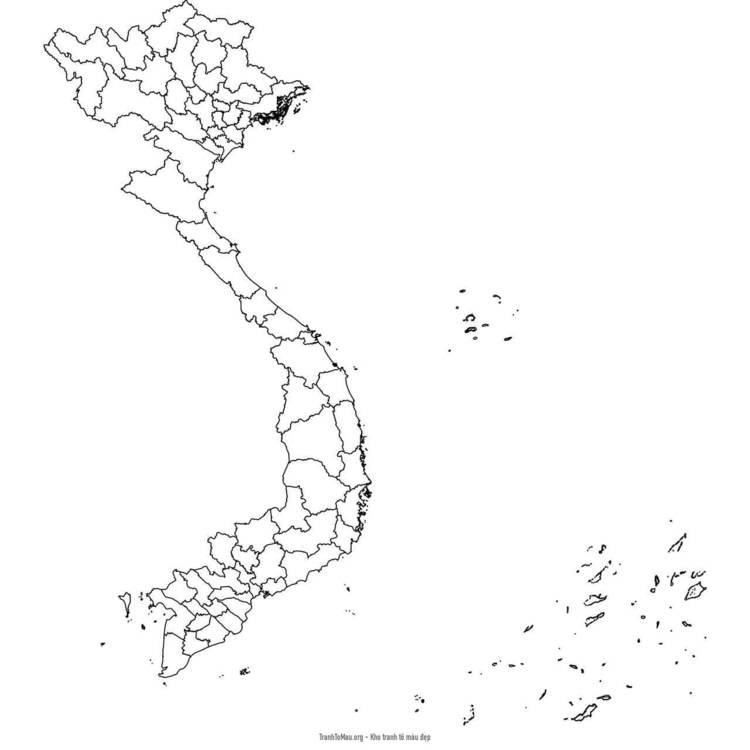Island: (454, 529, 721, 725), (442, 276, 537, 361)
